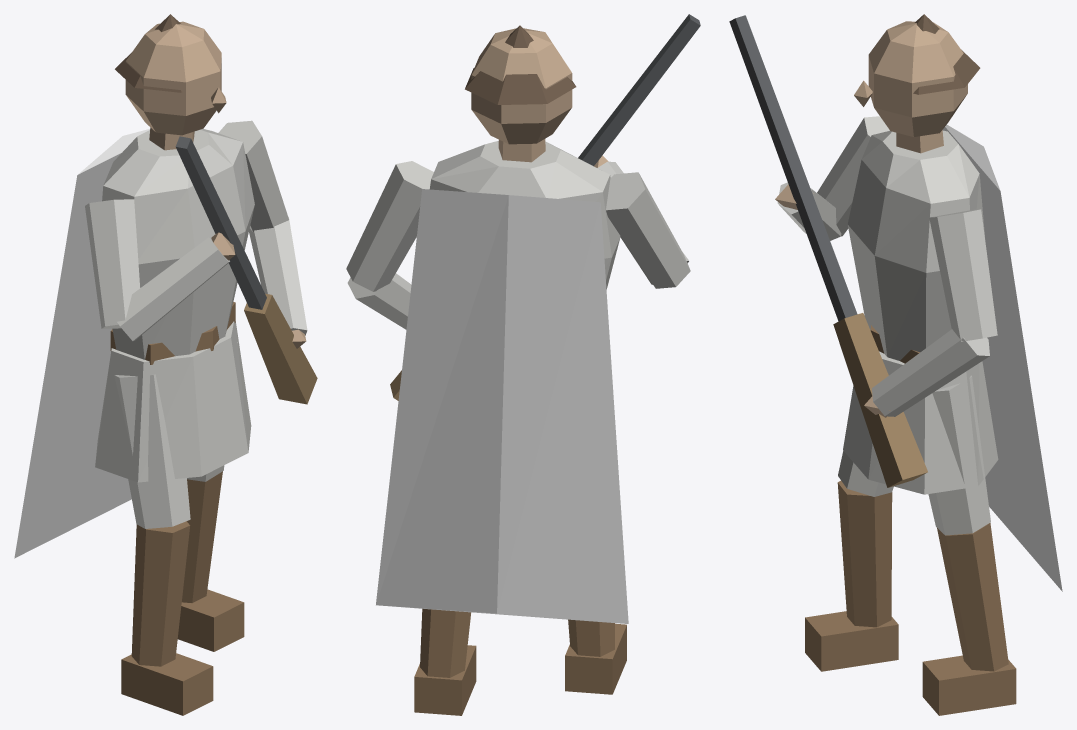
The model's file is mehal-sefari.glb.
3 views of the same model, side by side, from view 1: azimuth 30°, elevation 25°; view 2: azimuth 150°, elevation 25°; view 3: azimuth 270°, elevation 25° (orthographic). The views are drawn at different scales.
Visible parts, largest first — view 1: LOD0; view 2: LOD0; view 3: LOD0.
Part boxes in pixels (left/top/right/bottom): LOD0: left=14, top=14, right=317, bottom=715; LOD0: left=346, top=14, right=700, bottom=715; LOD0: left=729, top=14, right=1062, bottom=715.
Size of what is drawn, in the model's own units: 0.4283 by 0.975 by 0.4452.
